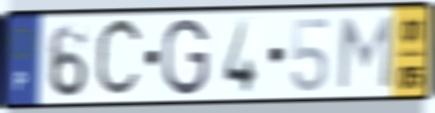4: (220, 15, 262, 96)
5: (289, 14, 331, 94)
6: (47, 21, 90, 100)
C: (93, 13, 146, 104)
G: (160, 16, 211, 99)
M: (335, 13, 395, 92)
